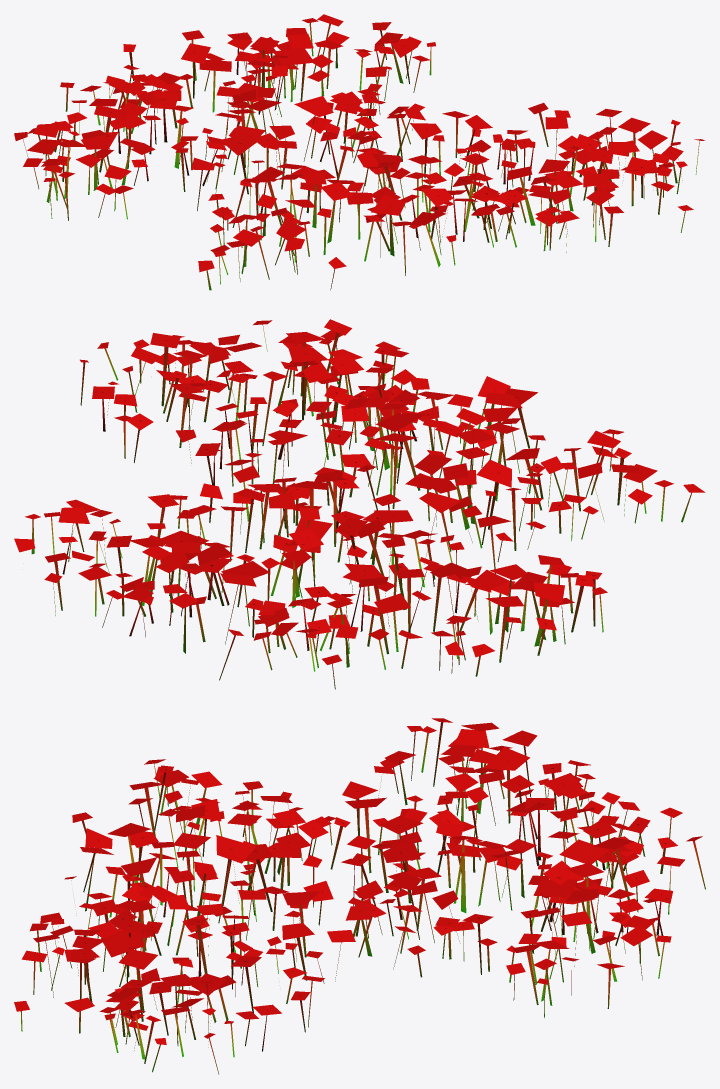
File: Plant_B_01.FBX
3 renders of one model, top to bottom at view 1: azimuth 30°, elevation 25°; view 2: azimuth 150°, elevation 25°; view 3: azimuth 270°, elevation 25°, orthographic. The views are drawn at different scales.
Parts seen in each view (by area): view 1: Geometry_Plant_B_01_LOD00; view 2: Geometry_Plant_B_01_LOD00; view 3: Geometry_Plant_B_01_LOD00.
Part boxes in pixels (box(x1,y1,x2,y2)): Geometry_Plant_B_01_LOD00: box(14, 14, 705, 290); Geometry_Plant_B_01_LOD00: box(14, 319, 705, 689); Geometry_Plant_B_01_LOD00: box(14, 718, 705, 1074).
Size of what is drawn, in the model's own units: 136 by 15.39 by 128.
